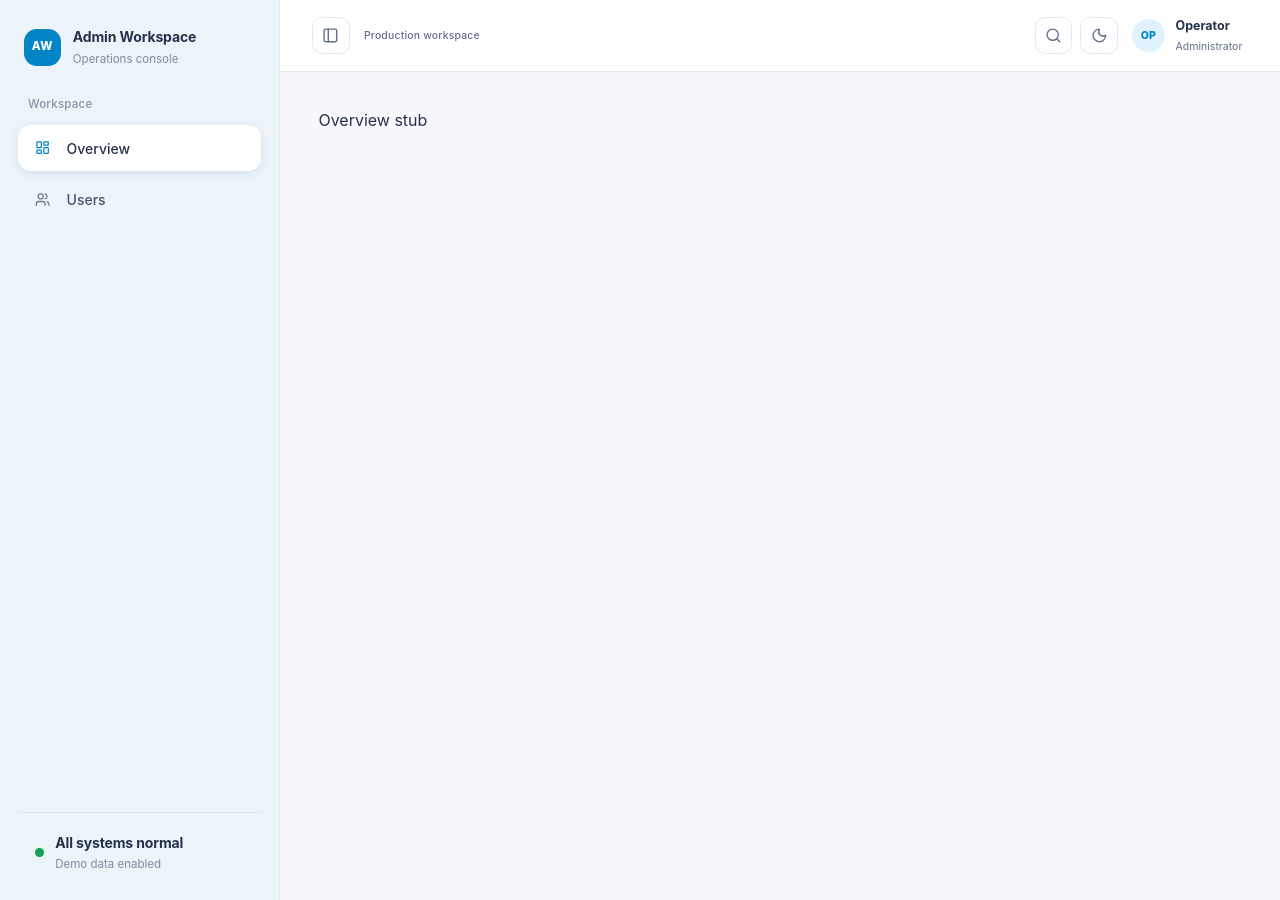
Test: CommandMenu › opens from the topbar button
Check: the text "Overview stub" is shown, box [318,110,427,130]
Click the button named "Open command menu": x=1054, y=36 [1035,17,1072,54]
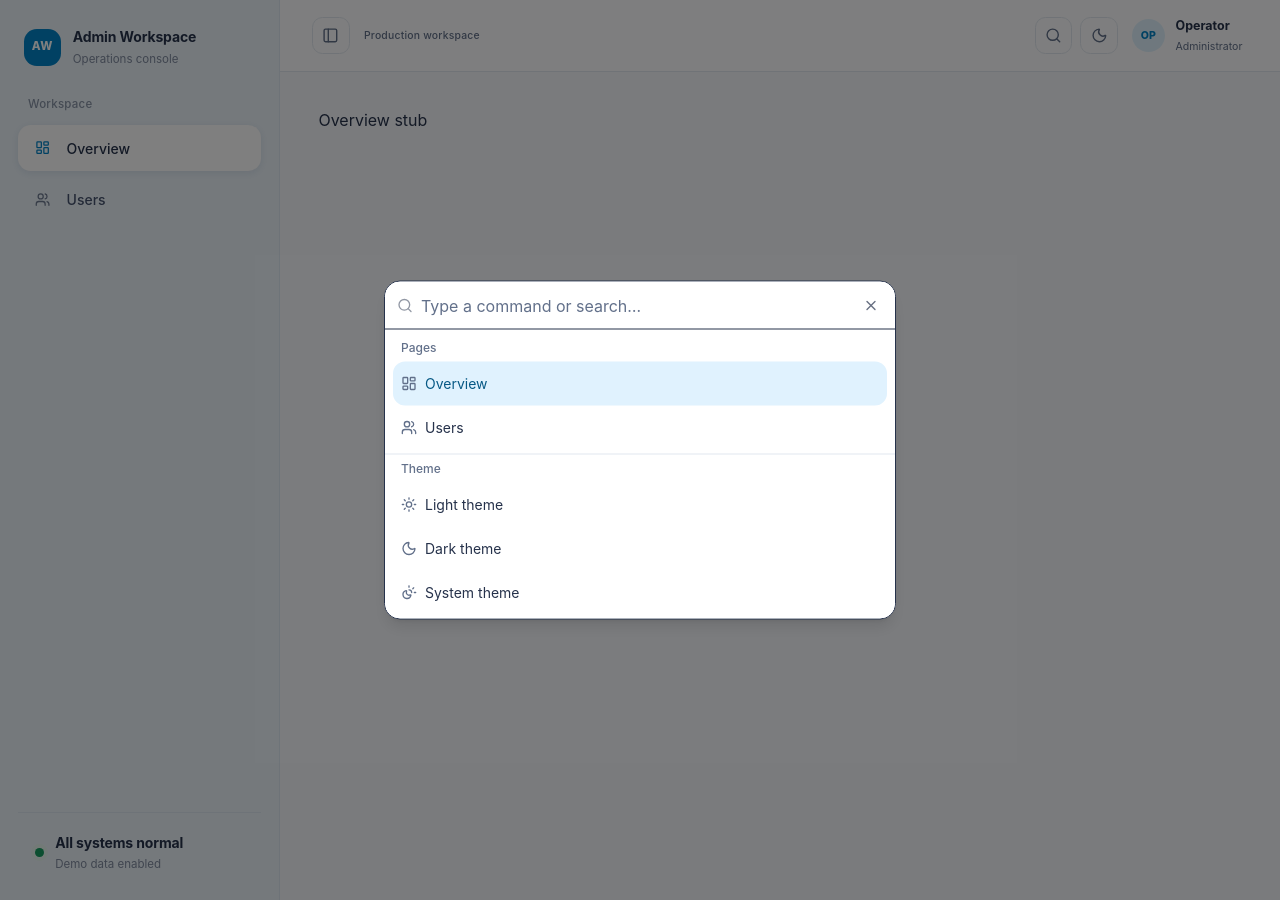
Check: the dialog is shown, box [384,280,896,620]
